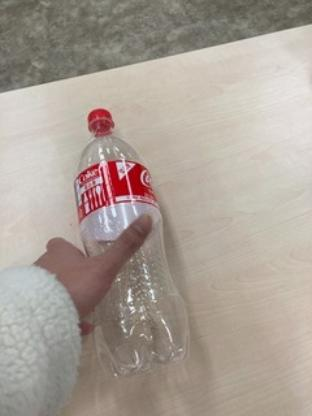Plastic Bottle: (71, 104, 191, 390)
